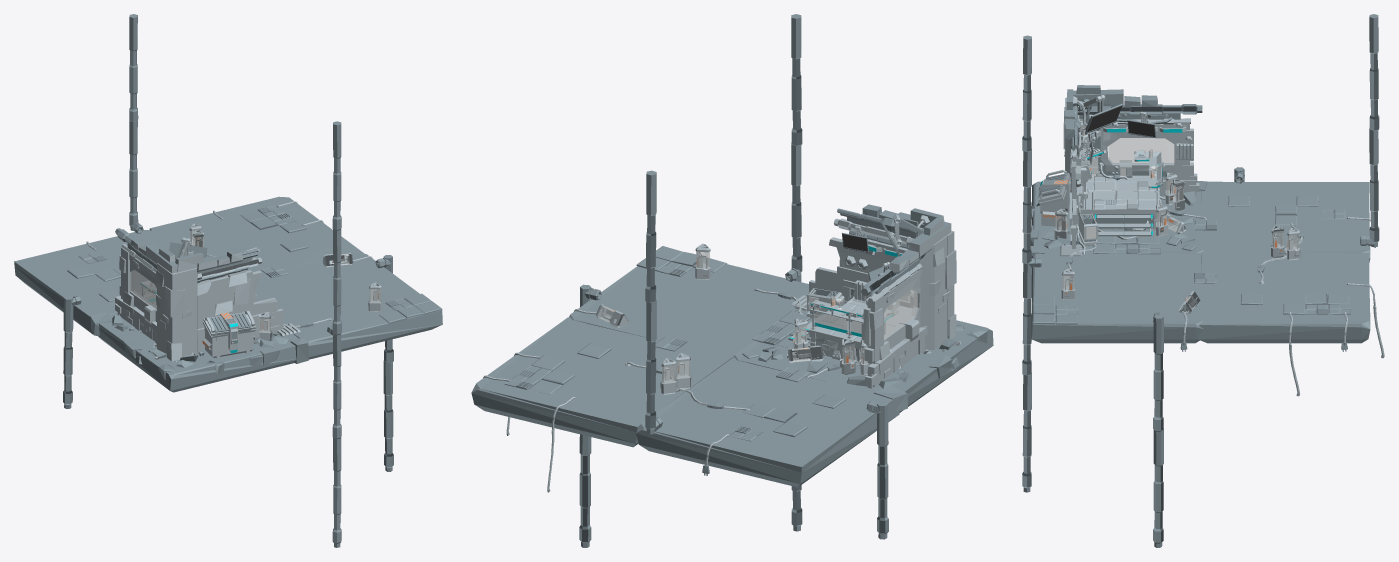
File: cyberpun-bar.fbx
3 renders of one model, left to right at view 1: azimuth 30°, elevation 25°; view 2: azimuth 150°, elevation 25°; view 3: azimuth 270°, elevation 25°, orthographic. The views are drawn at different scales.
Parts seen in each view (by area): view 1: group1849163075.003, group1849163075.002, group1849163075.001, group1849163075, group1698529524, group1459223550, group87630066, group2125687258.004, group2125687258.006, group2125687258.005, group2125687258.009, group2125687258.007 (+5 smaller); view 2: group1849163075.001, group1849163075.002, group1849163075.003, group1849163075, group1698529524, group2125687258.004, group2125687258.005, group2125687258.001, group2125687258.007, group2125687258.002, group2125687258.006, group282227351 (+7 smaller); view 3: group1849163075.002, group1849163075.003, group1849163075.001, group1849163075, group1459223550, group388567560, group54319398, group2125687258.006, group2125687258.003, group2125687258.007, group2125687258.001, group2125687258.009 (+12 smaller).
Part boxes in pixels (<box>): group1849163075.003: <box>255,253,442,359</box>; group1849163075.002: <box>149,196,364,276</box>; group1849163075.001: <box>14,230,170,335</box>; group1849163075: <box>97,313,298,392</box>; group1698529524: <box>157,263,197,356</box>; group1459223550: <box>202,310,255,358</box>; group87630066: <box>197,270,253,328</box>; group2125687258.004: <box>63,296,73,408</box>; group2125687258.006: <box>383,360,393,471</box>; group2125687258.005: <box>332,121,341,230</box>; group2125687258.009: <box>332,438,341,547</box>; group2125687258.007: <box>129,14,138,121</box>; group1849163075.001: <box>636,357,899,487</box>; group1849163075.002: <box>471,317,731,447</box>; group1849163075.003: <box>569,264,808,358</box>; group1849163075: <box>734,309,993,412</box>; group1698529524: <box>911,227,954,350</box>; group2125687258.004: <box>877,402,888,539</box>; group2125687258.005: <box>791,14,802,145</box>; group2125687258.001: <box>645,298,656,434</box>; group2125687258.007: <box>645,170,656,302</box>; group2125687258.002: <box>791,142,802,271</box>; group2125687258.006: <box>579,434,591,547</box>; group282227351: <box>838,239,909,307</box>; group1849163075.002: <box>1198,252,1370,343</box>; group1849163075.003: <box>1031,252,1203,343</box>; group1849163075.001: <box>1200,181,1370,262</box>; group1849163075: <box>1032,181,1203,253</box>; group1459223550: <box>1038,170,1070,226</box>; group388567560: <box>1100,125,1186,176</box>; group54319398: <box>1108,138,1174,163</box>; group2125687258.006: <box>1153,428,1163,547</box>; group2125687258.003: <box>1153,315,1163,431</box>; group2125687258.007: <box>1369,14,1379,130</box>; group2125687258.001: <box>1369,128,1379,247</box>; group2125687258.009: <box>1022,372,1031,492</box>.
Size of the model in its own units: 1188 by 1650 by 1195.
